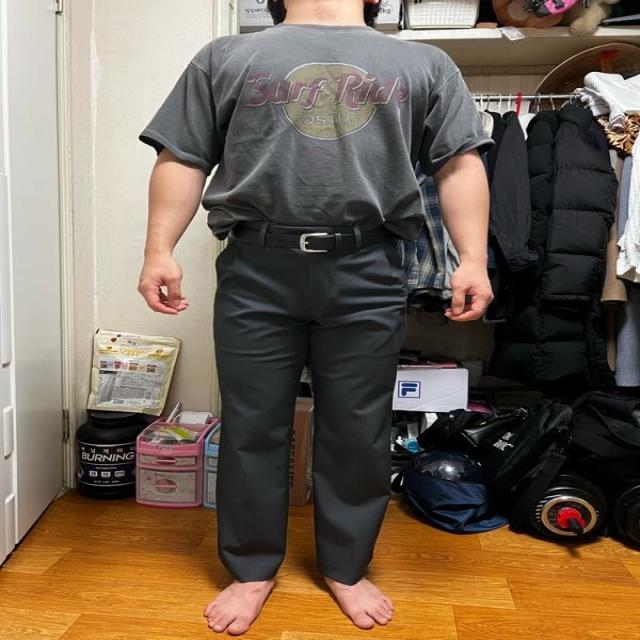cottonpants: (212, 225, 410, 590)
shortsleeve: (137, 28, 490, 241)
